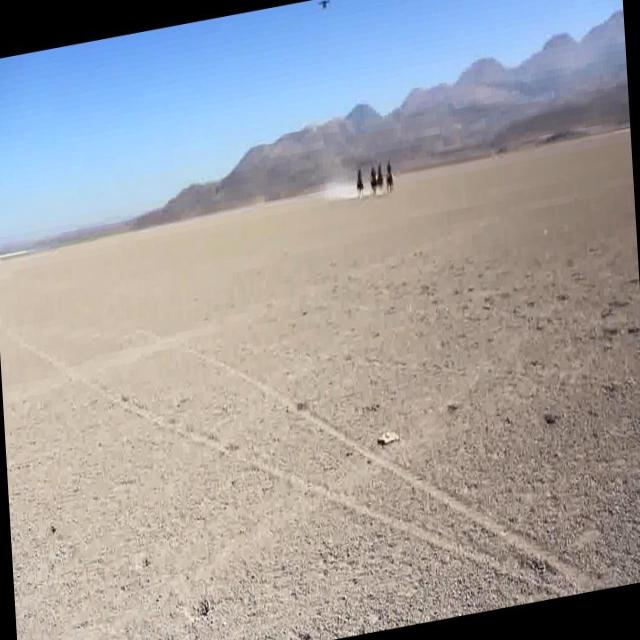drone: (318, 0, 334, 18)
